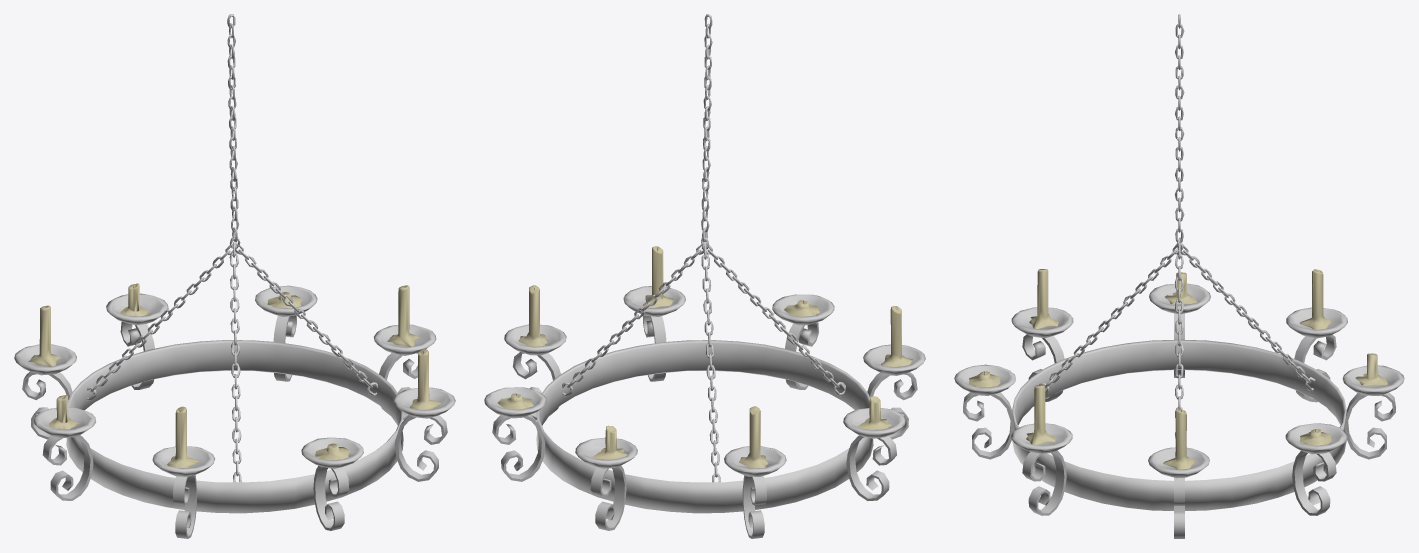
File: chandelierPBR_level_2_NoTex.fbx
The picture shows the model from 3 angles, left to right: view 1: azimuth 30°, elevation 25°; view 2: azimuth 150°, elevation 25°; view 3: azimuth 270°, elevation 25°; orthographic projection.
Parts seen in each view (by area): view 1: CandleShort; view 2: CandleShort; view 3: CandleShort.
Boxes of the visible parts, x1,y1,x2,y2 form: CandleShort: [14, 14, 455, 538]; CandleShort: [484, 14, 925, 538]; CandleShort: [954, 14, 1404, 538].
Bounding box in the file's own units: 1.58 × 1.71 × 1.58.
